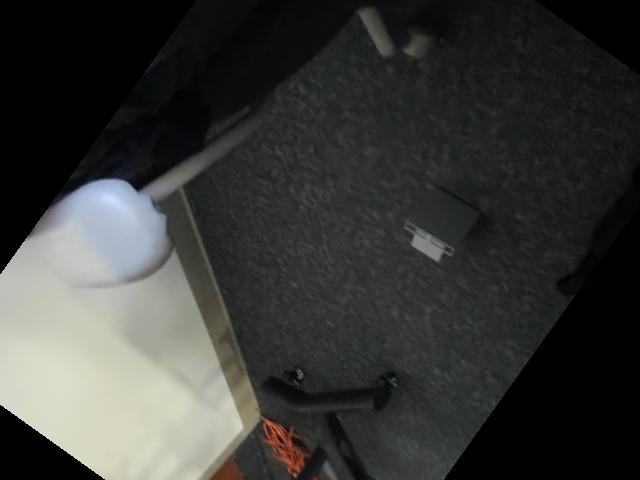grey pallet: (402, 172, 481, 271)
